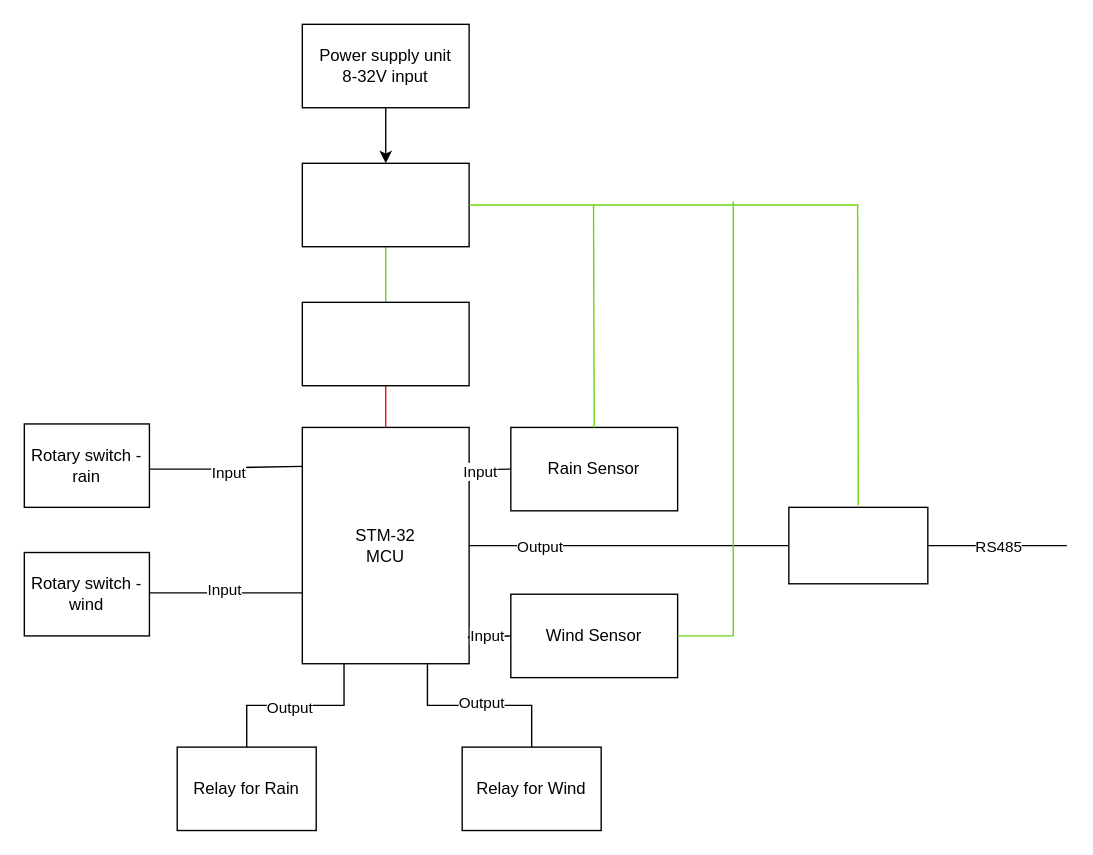
Some shapes in this 1093 by 855 pixel diagram are drawn without their labels. The centre of each missing label's shape, as x and y in pixels:
"AMS1117-3.3 regulator to 3.3V" belongs at point 385,343.
"LM2596 buck converter to 5V" belongs at point 385,204.
"MAX485" belongs at point 857,545.
